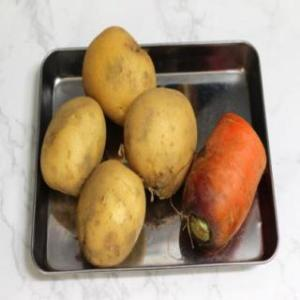carrot: (183, 111, 268, 255)
potato: (122, 86, 198, 200), (76, 155, 148, 271), (83, 24, 159, 130), (40, 95, 108, 195)
